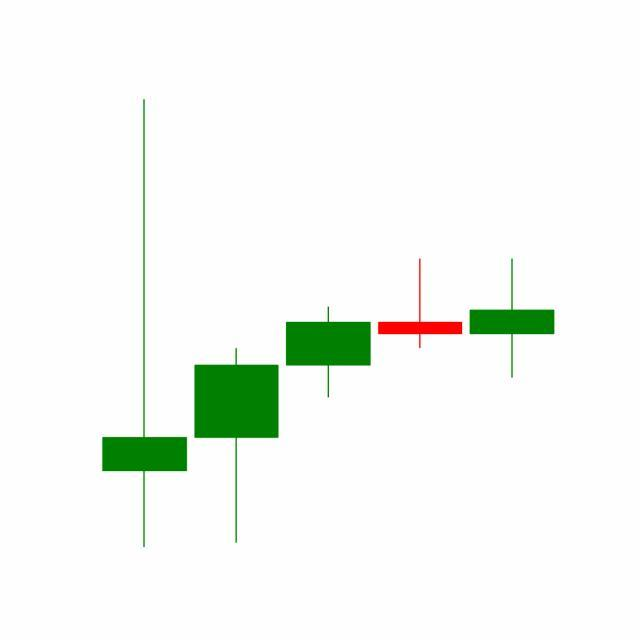Spinning Top: (466, 258, 559, 381)
